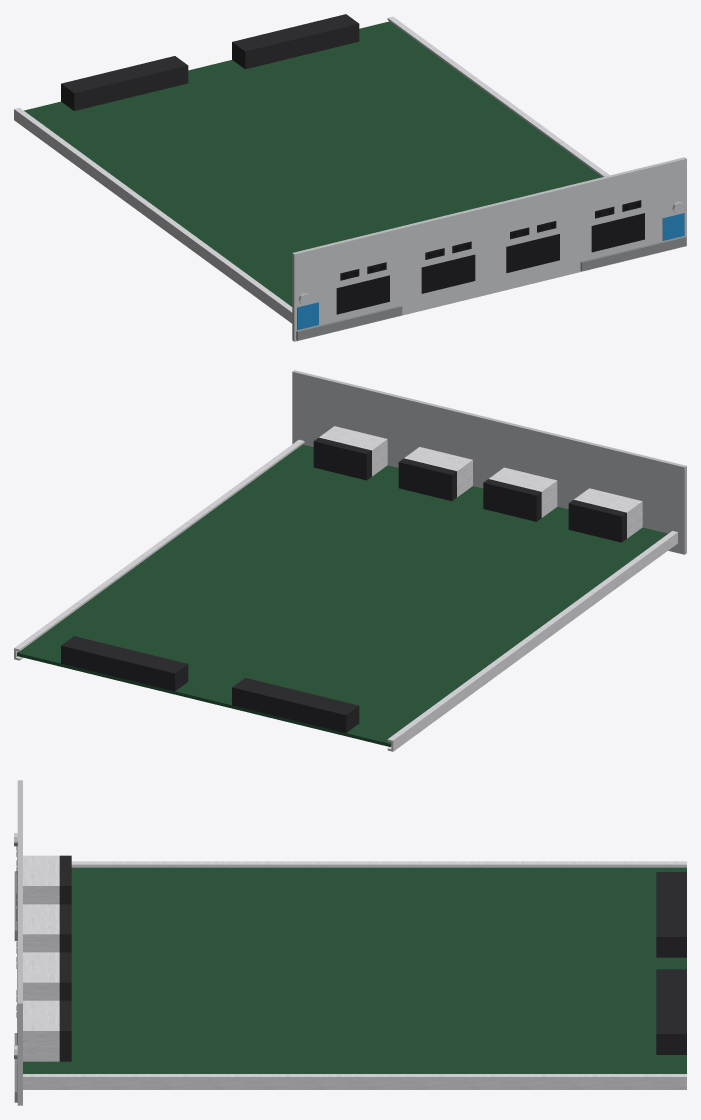
Rendered from J9546A.far.glb.
The picture shows the model from 3 angles, top to bottom: view 1: azimuth 30°, elevation 25°; view 2: azimuth 150°, elevation 25°; view 3: azimuth 270°, elevation 25°; orthographic projection. The views are drawn at different scales.
Visible parts, largest first — view 1: Module_far; view 2: Module_far; view 3: Module_far.
Part boxes in pixels (<box>): Module_far: <box>14,14,686,341</box>; Module_far: <box>14,370,686,751</box>; Module_far: <box>14,780,686,1105</box>.
Size of the model in its own units: 0.2065 by 0.0439 by 0.2631.
Materials: 3 (2 with a texture image).
